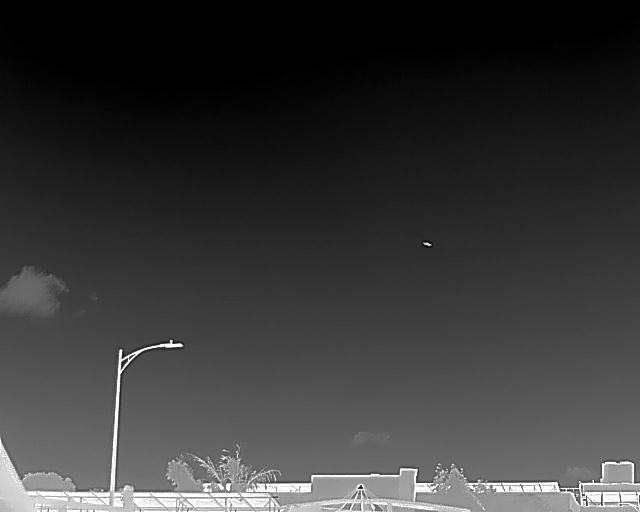fpv-drone: (422, 240, 432, 247)
